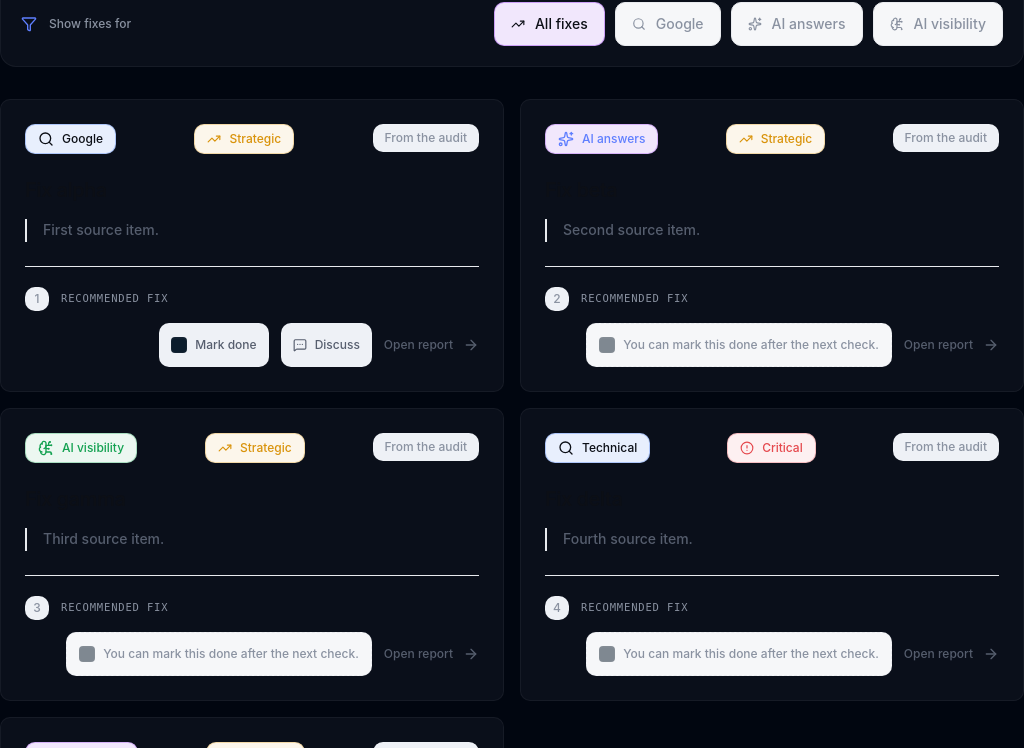
Test: RecommendationsHubClient › updates the existing task when ticking a fix, never creating a duplicate
Click the checkbox named "Mark done: Fix alpha". click: (179, 345)
box: [171,337,187,353]
(page scrolled)
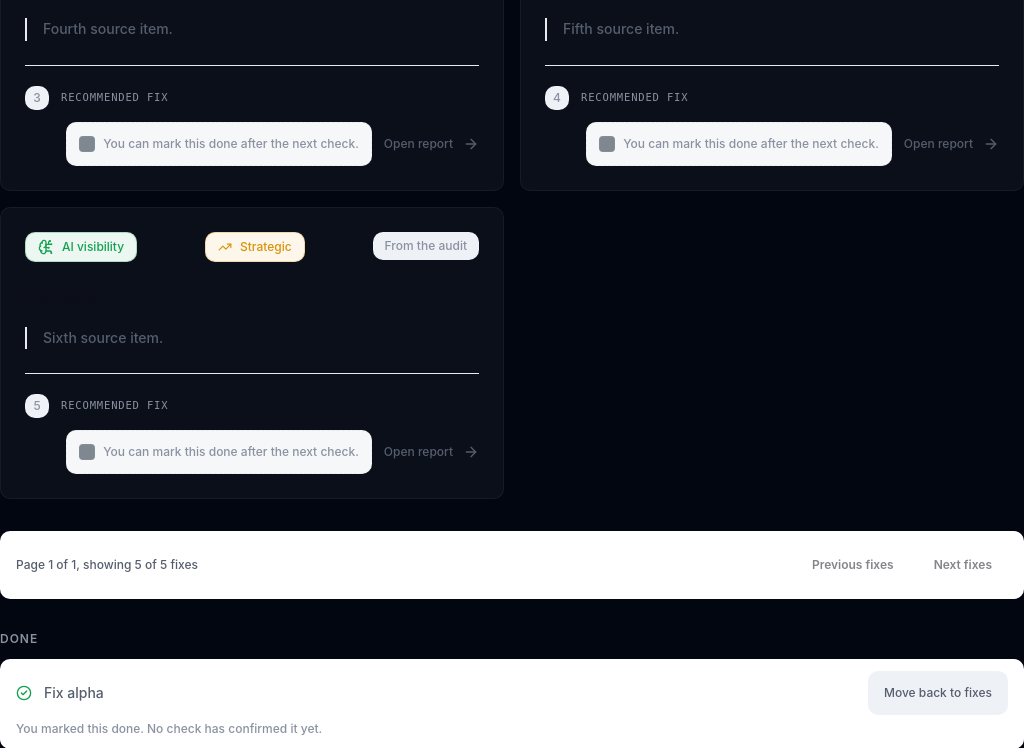
Check: the heading "Done" is shown, box [0,631,38,646]
Check: the text "You marked this done. No check has confirmed it yet." is shown, box [16,721,322,736]
